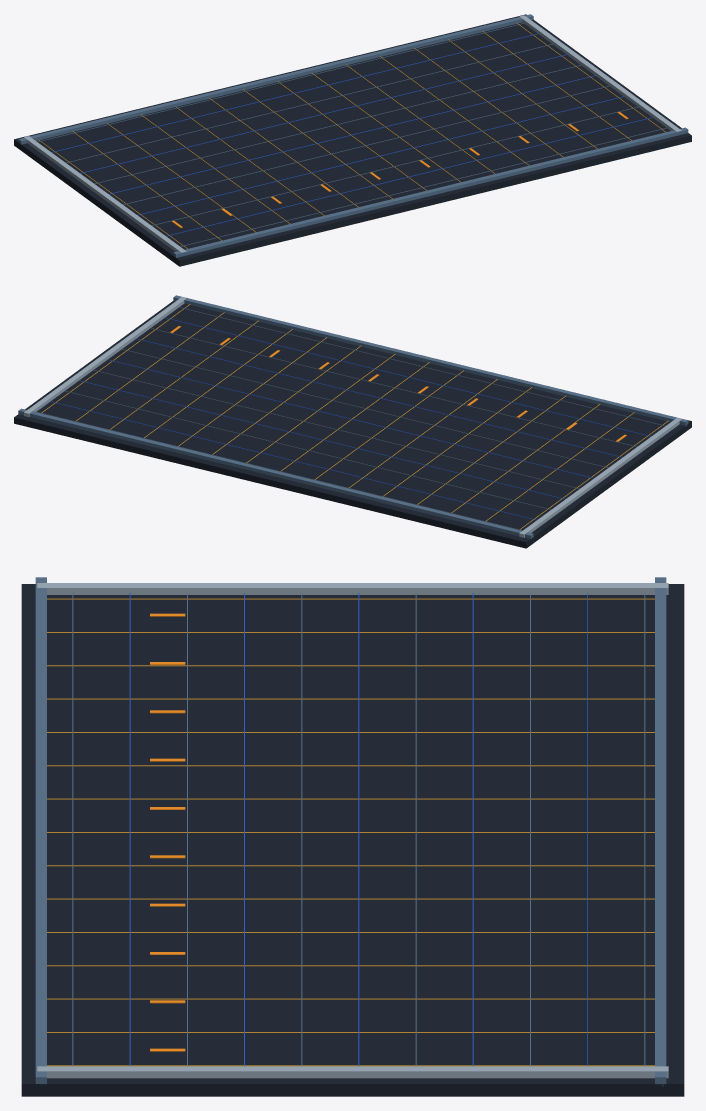
The model's file is 00_L86_OrbitalForgeArenaBase.fbx.
The picture shows the model from 3 angles, top to bottom: view 1: azimuth 30°, elevation 25°; view 2: azimuth 150°, elevation 25°; view 3: azimuth 270°, elevation 25°; orthographic projection. The views are drawn at different scales.
Parts seen in each view (by area): view 1: L86_OrbitalForgeArenaBase; view 2: L86_OrbitalForgeArenaBase; view 3: L86_OrbitalForgeArenaBase.
Boxes of the visible parts, bbox=[...] form: L86_OrbitalForgeArenaBase: bbox=[14, 14, 691, 266]; L86_OrbitalForgeArenaBase: bbox=[14, 295, 691, 548]; L86_OrbitalForgeArenaBase: bbox=[21, 577, 684, 1096].
Size of the model in its own units: 3000 by 54.5 by 1680.
